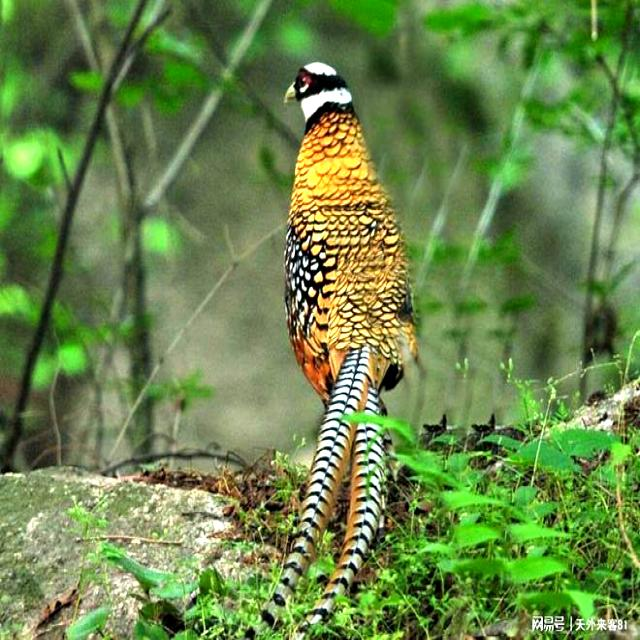Reeves-s Pheasant: (249, 344, 386, 639)
